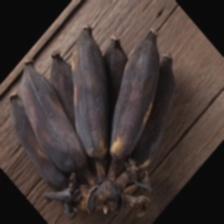banana: (28, 27, 189, 193)
